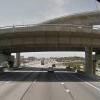Bridge: (6, 12, 98, 68)
